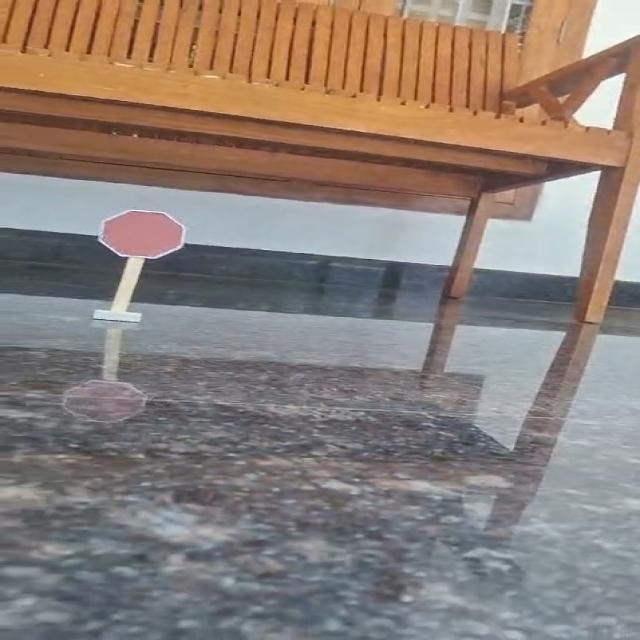Stop: (80, 204, 198, 264)
